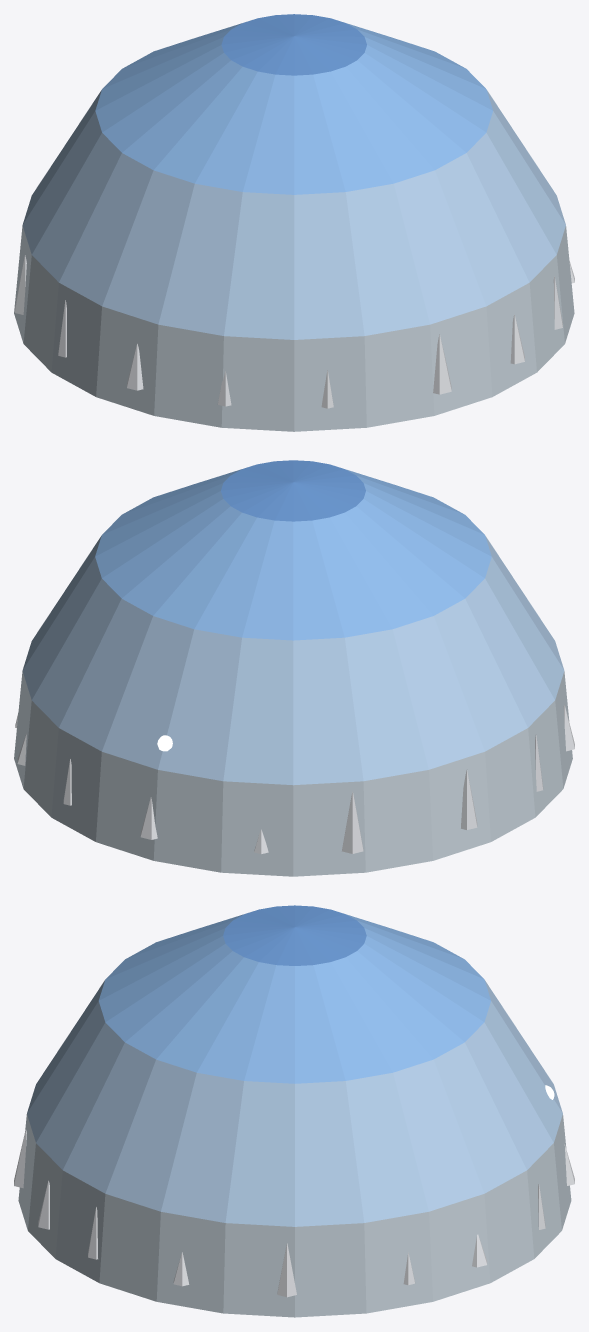
File: sky_aurora_day.glb
3 views of the same model, one above another, from view 1: azimuth 30°, elevation 25°; view 2: azimuth 150°, elevation 25°; view 3: azimuth 270°, elevation 25° (orthographic).
Visible parts, largest first — view 1: skyband1, skyband0, skyband2, skyband3, peaks; view 2: skyband1, skyband0, skyband2, skyband3, peaks; view 3: skyband1, skyband0, skyband2, skyband3, peaks.
Boxes of the visible parts, bbox=[...] form: skyband1: bbox=[22, 90, 565, 339]; skyband0: bbox=[14, 225, 574, 431]; skyband2: bbox=[95, 22, 492, 194]; skyband3: bbox=[221, 14, 366, 75]; peaks: bbox=[14, 255, 574, 408]; skyband1: bbox=[22, 536, 564, 785]; skyband0: bbox=[14, 671, 572, 876]; skyband2: bbox=[95, 469, 491, 640]; skyband3: bbox=[221, 460, 365, 521]; peaks: bbox=[15, 705, 574, 854]; skyband1: bbox=[27, 980, 562, 1226]; skyband0: bbox=[18, 1114, 571, 1317]; skyband2: bbox=[98, 913, 490, 1083]; skyband3: bbox=[223, 905, 366, 965]; peaks: bbox=[14, 1129, 574, 1297].
Size of the model in its own units: 181 by 97.84 by 182.
